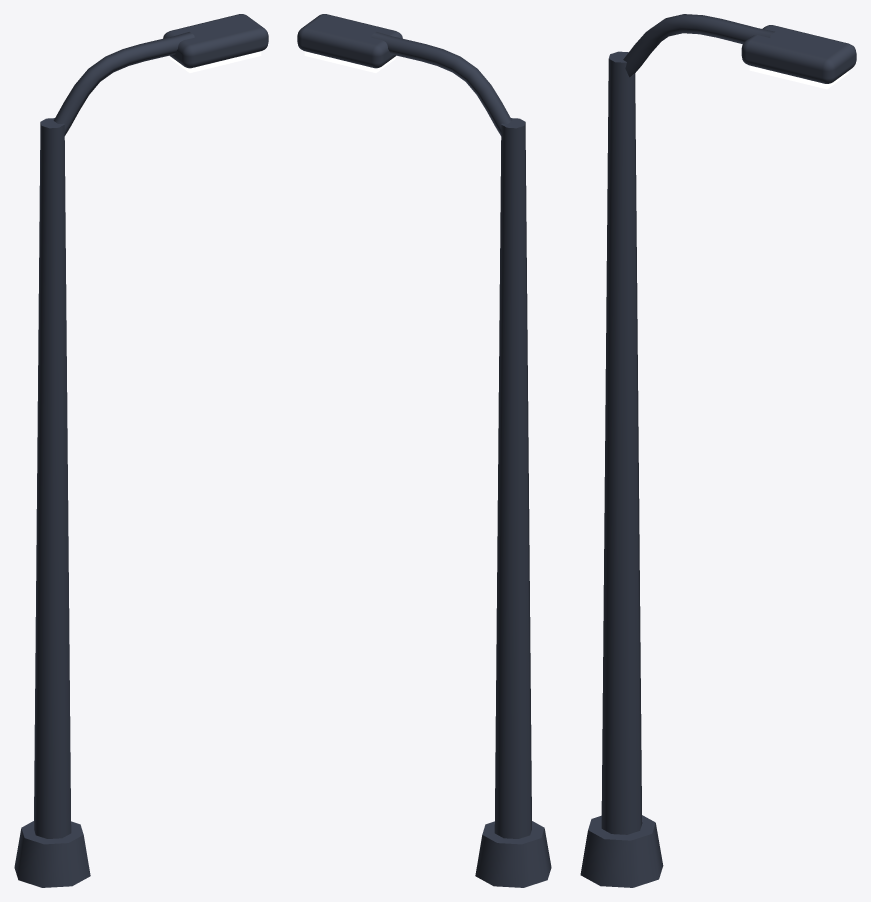
The model's file is lamp.glb.
3 views of the same model, side by side, from view 1: azimuth 30°, elevation 25°; view 2: azimuth 150°, elevation 25°; view 3: azimuth 330°, elevation 25° (orthographic). The views are drawn at different scales.
Parts seen in each view (by area): view 1: lamp; view 2: lamp; view 3: lamp.
Boxes of the visible parts, x1,y1,x2,y2 form: lamp: [14, 14, 268, 887]; lamp: [297, 14, 551, 887]; lamp: [580, 14, 856, 887].
Size of the model in its own units: 1.55 by 4.95 by 0.44.
